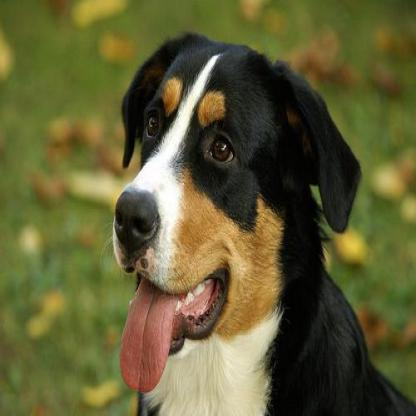Appenzeller: (110, 29, 412, 412)
